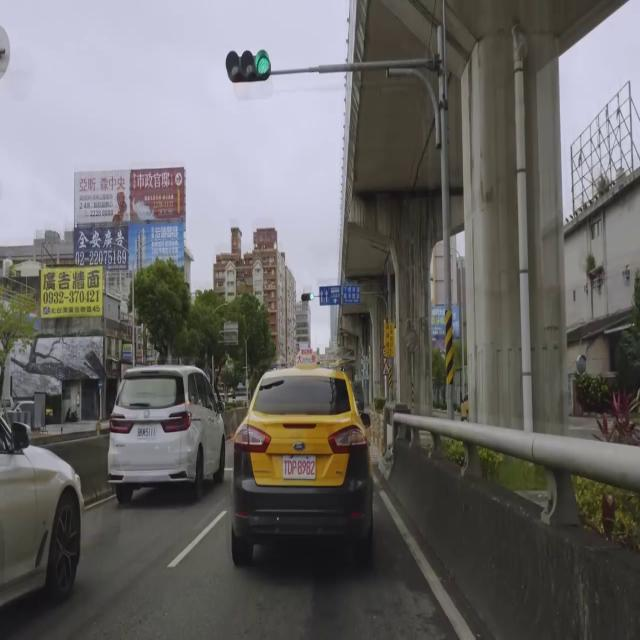green light: (225, 47, 271, 80), (301, 291, 314, 302)
